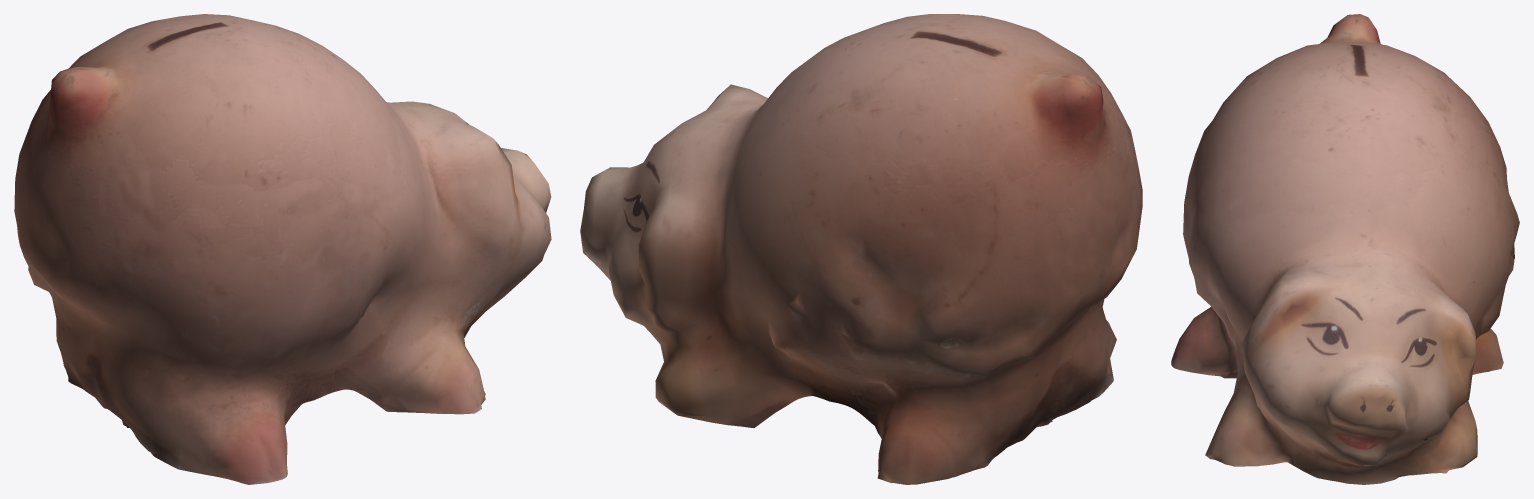
File: cerdo.fbx
The picture shows the model from 3 angles, left to right: view 1: azimuth 30°, elevation 25°; view 2: azimuth 150°, elevation 25°; view 3: azimuth 270°, elevation 25°; orthographic projection. The views are drawn at different scales.
Visible parts, largest first — view 1: cerdo; view 2: cerdo; view 3: cerdo.
Part boxes in pixels (bbox=[...]): cerdo: bbox=[14, 14, 551, 484]; cerdo: bbox=[580, 14, 1142, 484]; cerdo: bbox=[1171, 14, 1519, 484].
Size of the model in its own units: 94.13 by 65.79 by 65.76.
